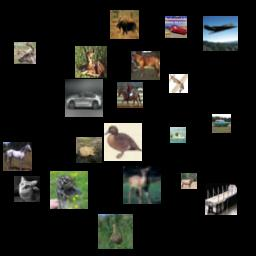airplane: (203, 16, 238, 51), (169, 74, 188, 93)
automobile: (65, 79, 103, 117), (165, 16, 187, 38), (212, 114, 231, 133)
bird: (104, 123, 142, 161), (50, 171, 88, 209), (98, 214, 133, 249)
cat: (14, 176, 40, 202)
deer: (123, 166, 161, 204), (75, 46, 107, 78), (110, 10, 139, 39), (14, 42, 36, 64), (181, 173, 197, 189)
frog: (76, 137, 102, 163)
ship: (170, 127, 186, 143)
truck: (205, 183, 237, 215)
